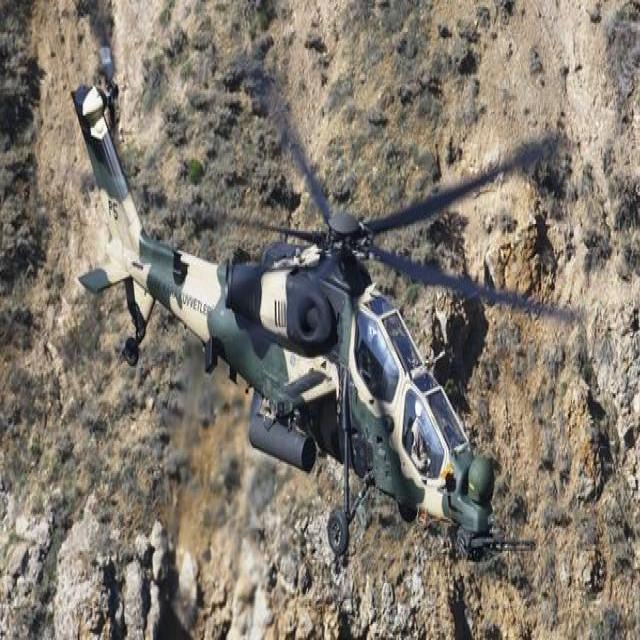MIL_HELO: (56, 31, 596, 585)
